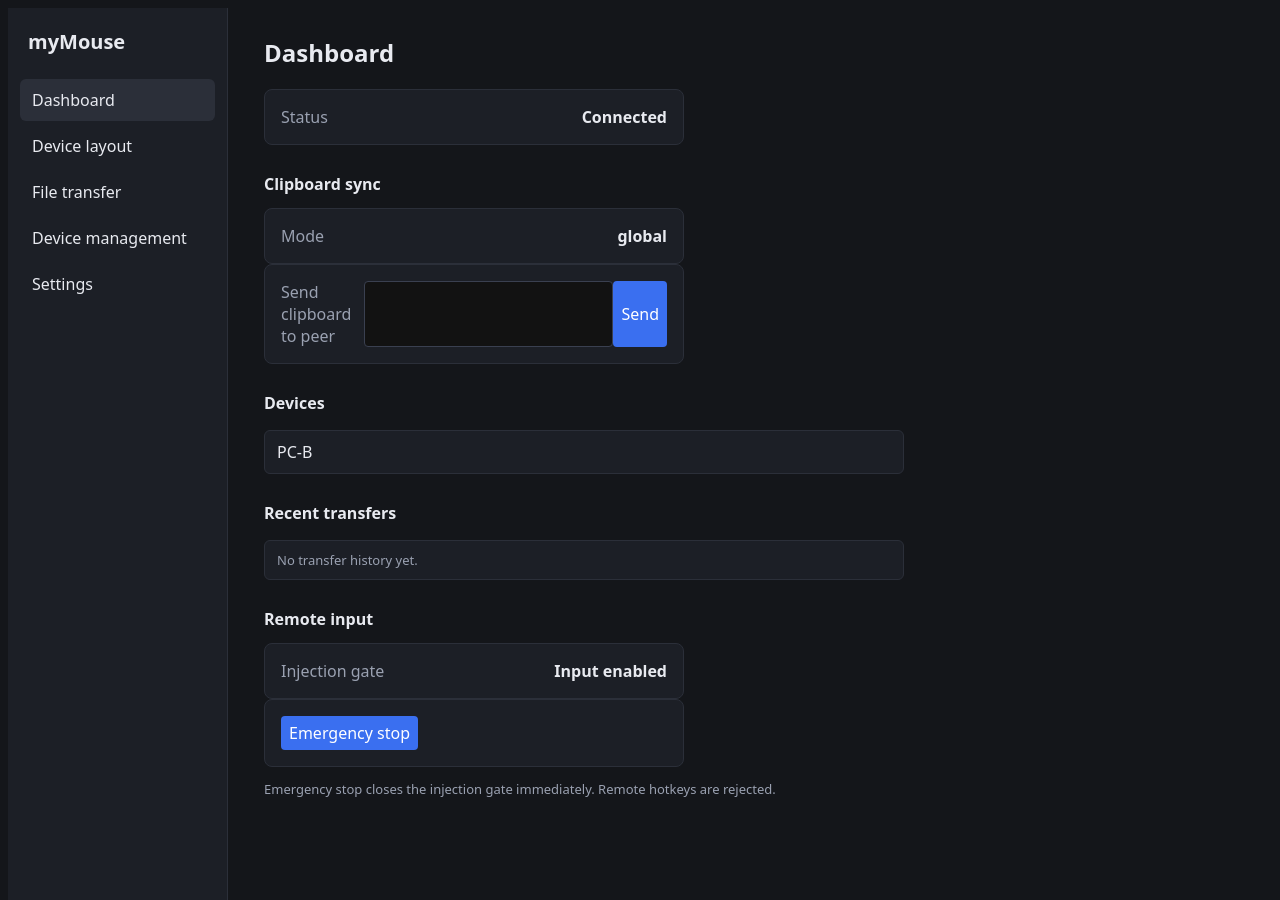
Test: App › sends clipboard text to the connected peer
This screenshot has width=1280, height=900.
Check: the text "Connected" is shown, box [582,106,667,128]
Type "hello peer" into the field named "Clipboard text to send" at (489, 314), box [364,281,614,347]
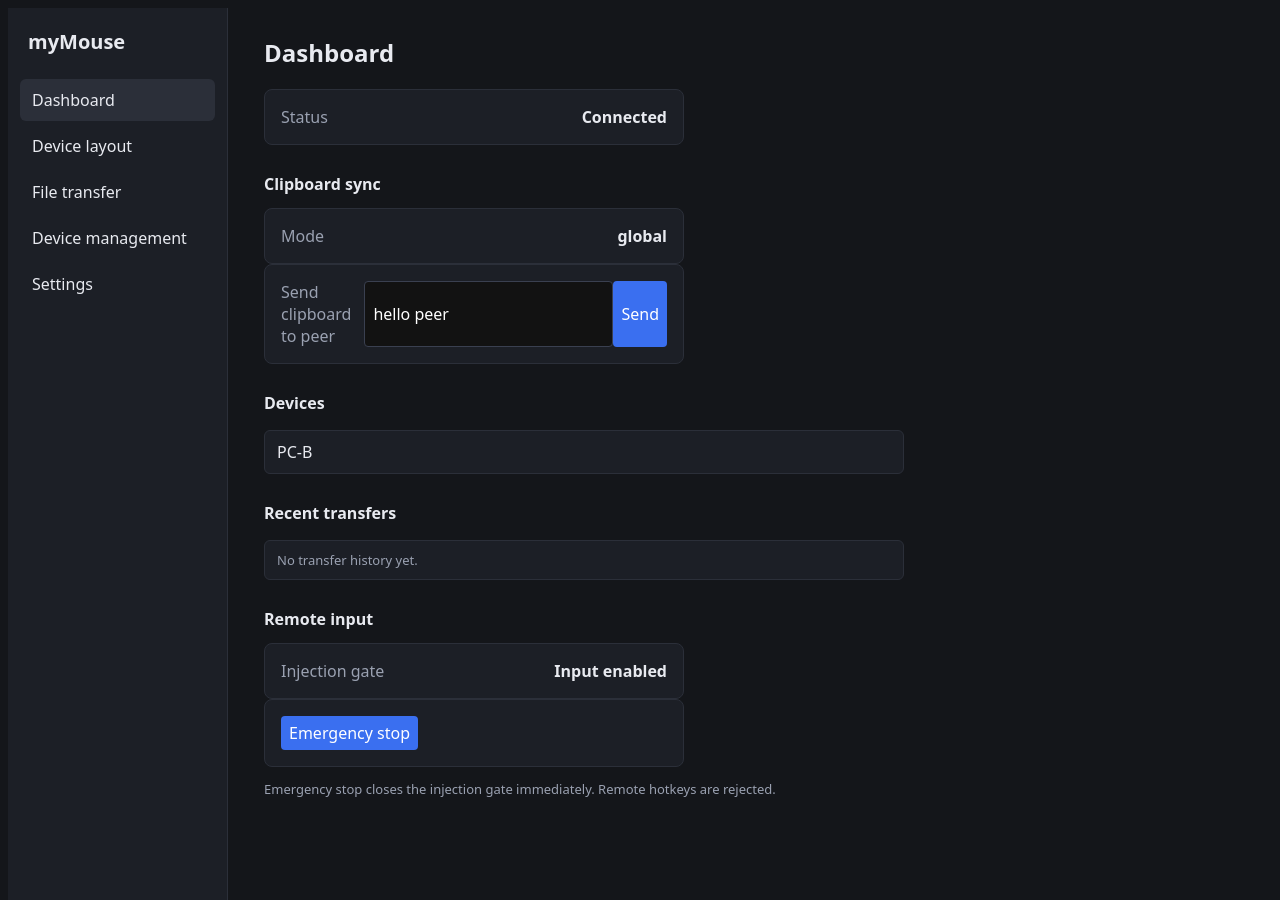
Click the button "Send" at (640, 314), box [614,281,667,347]
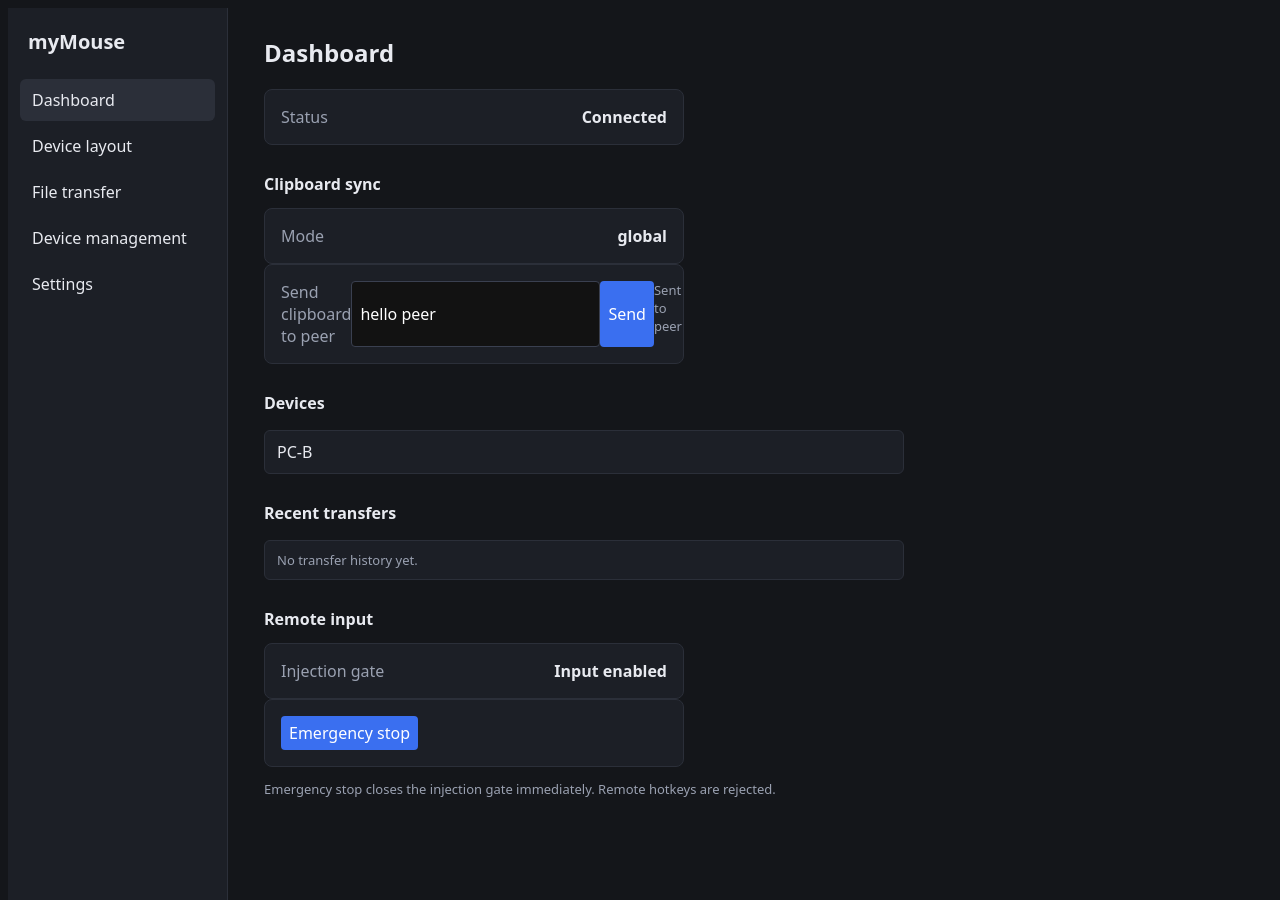
Check: the text "Sent to peer" is shown, box [654,281,682,347]
